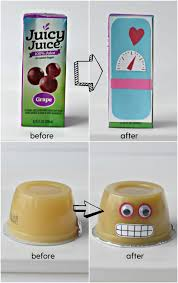Juice_Box: (14, 5, 67, 131), (105, 12, 157, 131)
